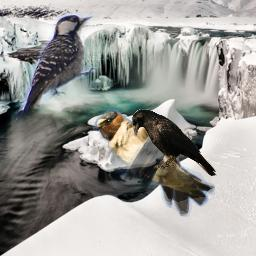Crow: (132, 109, 217, 176)
Swallow: (93, 109, 215, 217)
Woodpecker: (10, 8, 102, 127)
